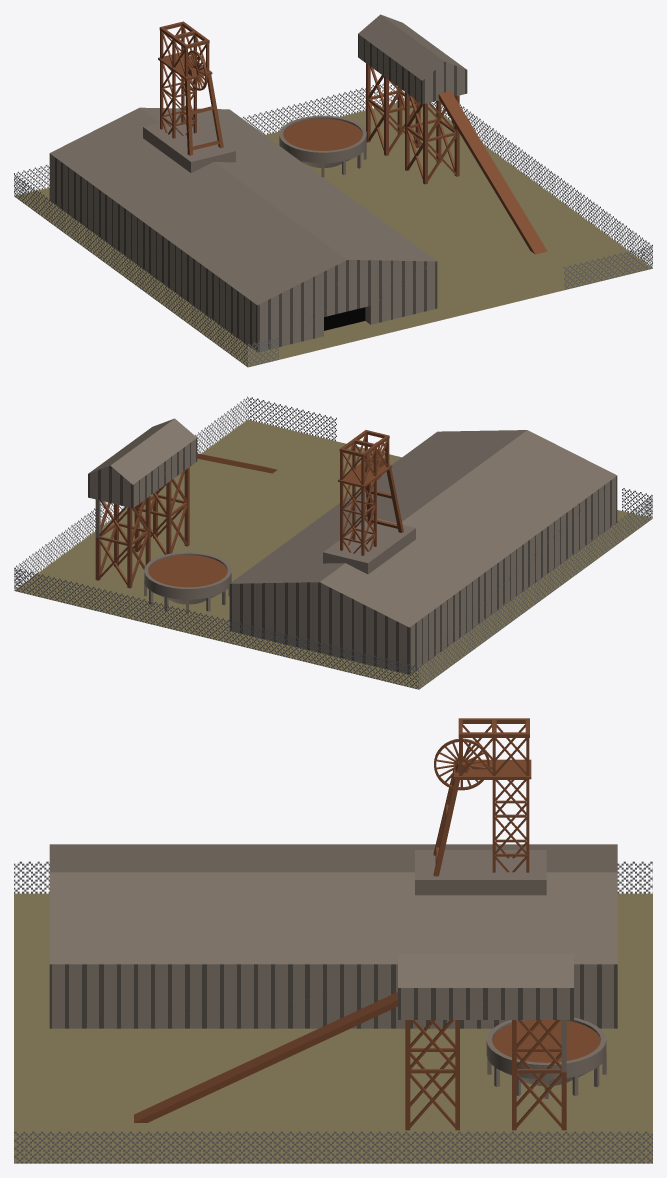
File: CopperMine.fbx
3 renders of one model, top to bottom at view 1: azimuth 30°, elevation 25°; view 2: azimuth 150°, elevation 25°; view 3: azimuth 270°, elevation 25°, orthographic. The views are drawn at different scales.
Parts seen in each view (by area): view 1: CopperMine; view 2: CopperMine; view 3: CopperMine.
Boxes of the visible parts, x1,y1,x2,y2 form: CopperMine: (14, 14, 652, 367); CopperMine: (14, 396, 652, 689); CopperMine: (14, 718, 652, 1163).
Size of the model in its own units: 1800 by 778 by 1800.
